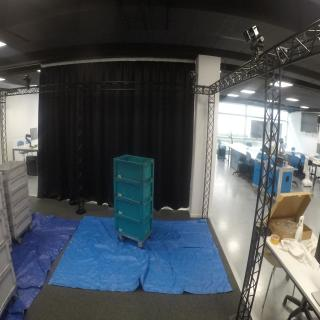BoxB4: (112, 153, 155, 185), (114, 180, 155, 203), (115, 199, 155, 221)
